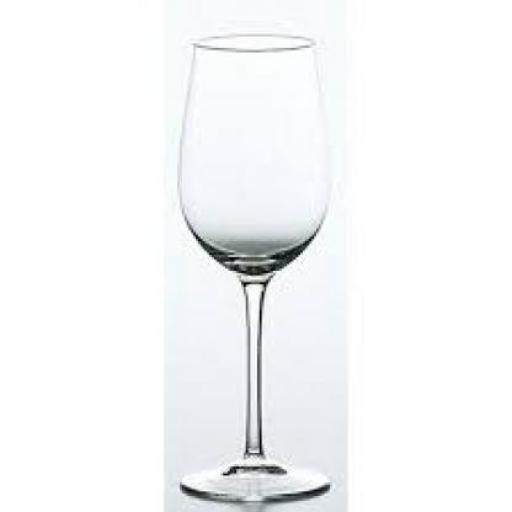glass: (175, 31, 328, 503)
